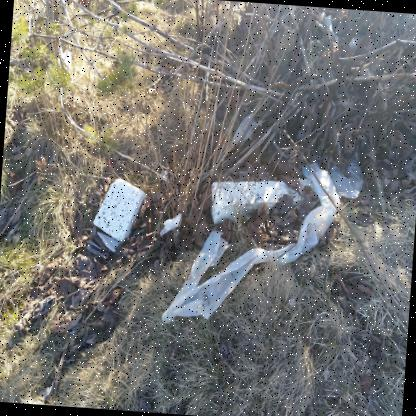Other plastic bottle: (98, 231, 123, 252)
Plastic film: (162, 162, 340, 324), (329, 153, 363, 198), (232, 113, 266, 148), (160, 213, 181, 236), (323, 15, 335, 37), (349, 38, 357, 50)
Styrofoam piece: (210, 179, 315, 224), (93, 179, 147, 242)
